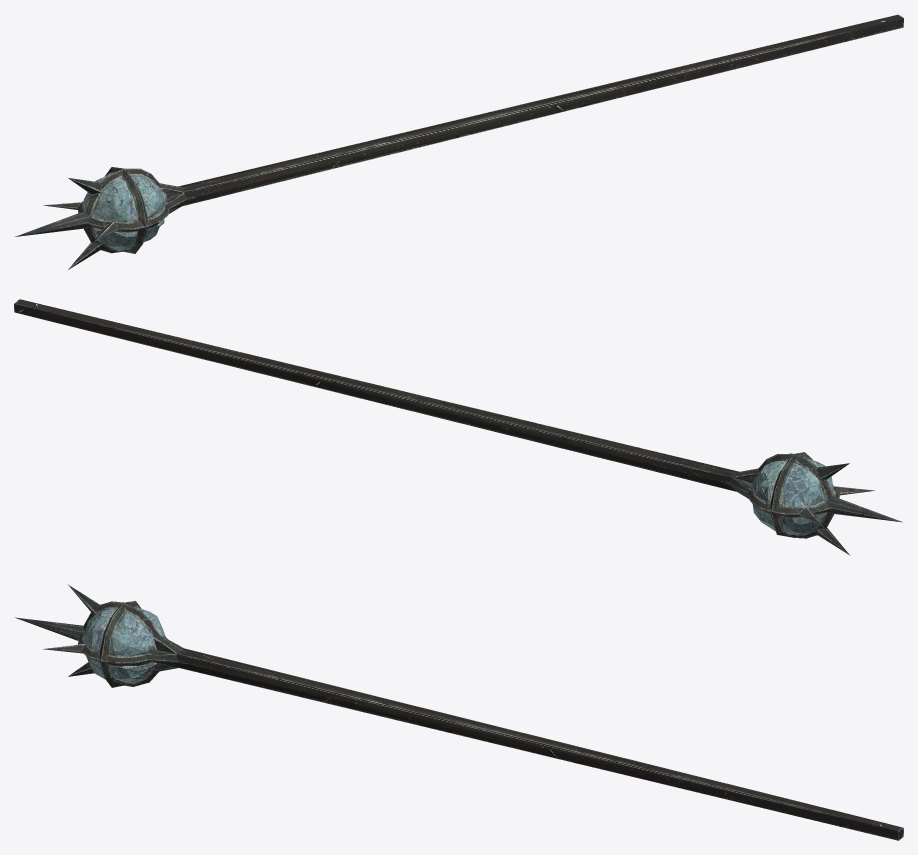
Rendered from ITMW_2H_BLOODSTAFF_01.glb.
The picture shows the model from 3 angles, top to bottom: view 1: azimuth 30°, elevation 25°; view 2: azimuth 150°, elevation 25°; view 3: azimuth 330°, elevation 25°; orthographic projection.
Visible parts, largest first — view 1: ITMW_2H_BLOODSTAFF_01; view 2: ITMW_2H_BLOODSTAFF_01; view 3: ITMW_2H_BLOODSTAFF_01.
Part boxes in pixels (x1,y1,x2,y2): ITMW_2H_BLOODSTAFF_01: (15, 14, 903, 269); ITMW_2H_BLOODSTAFF_01: (14, 299, 902, 555); ITMW_2H_BLOODSTAFF_01: (15, 584, 903, 840).
Bounding box in the file's own units: 2.56 × 0.2561 × 0.2561.
1 material, 1 textured.
